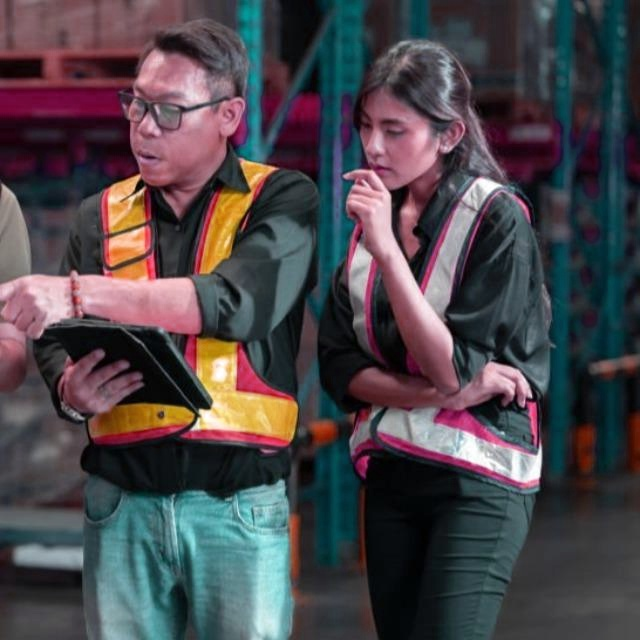Con_Chaleco: (80, 160, 307, 450), (346, 179, 540, 481)
Sin_Casco_Mascarrilla: (128, 18, 252, 185), (354, 37, 469, 188)
